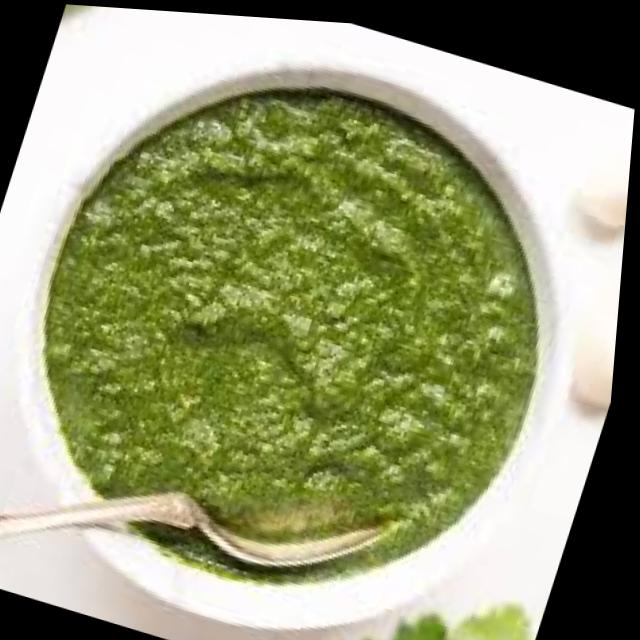GREEN CHUTNEY: (42, 104, 525, 518)
